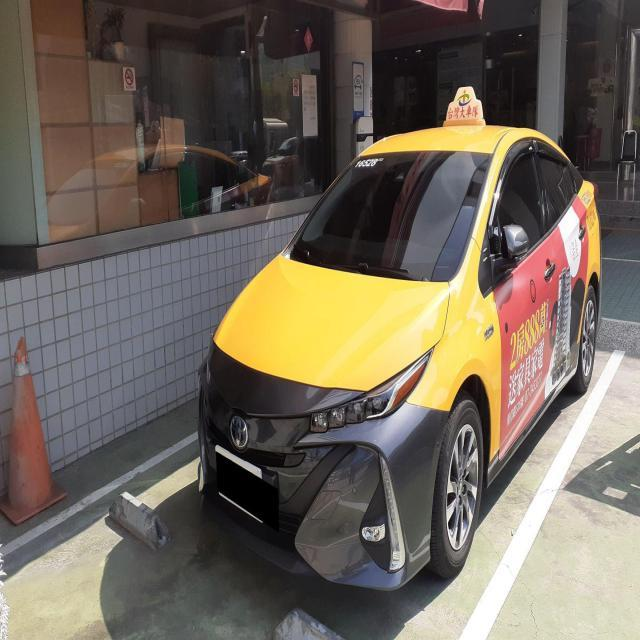taxi: (190, 54, 617, 622)
